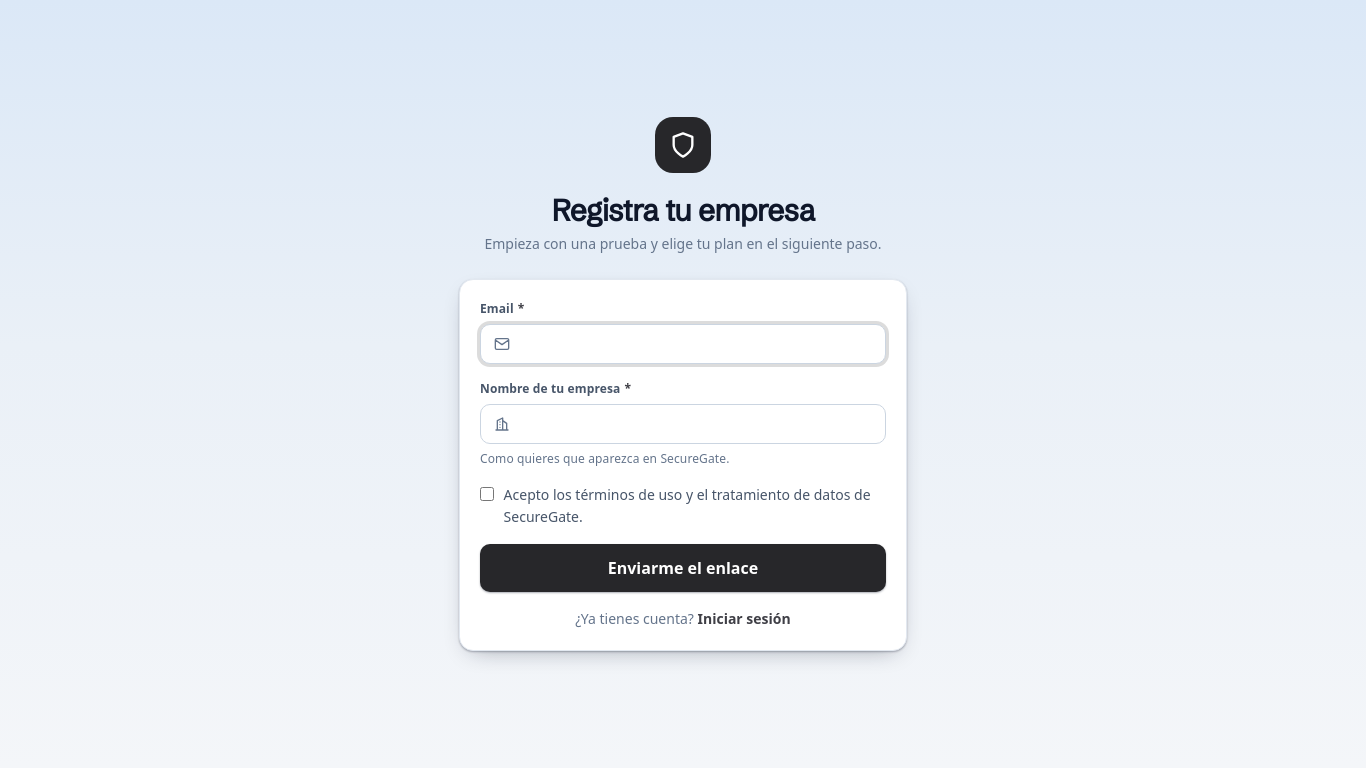
Test: RegistroPage (pública) › sin aceptar los términos no envía nada
Step 1. Type " ana@empresa.gt " into the field labelled "Email*" → (683, 344), box [480, 324, 886, 364]
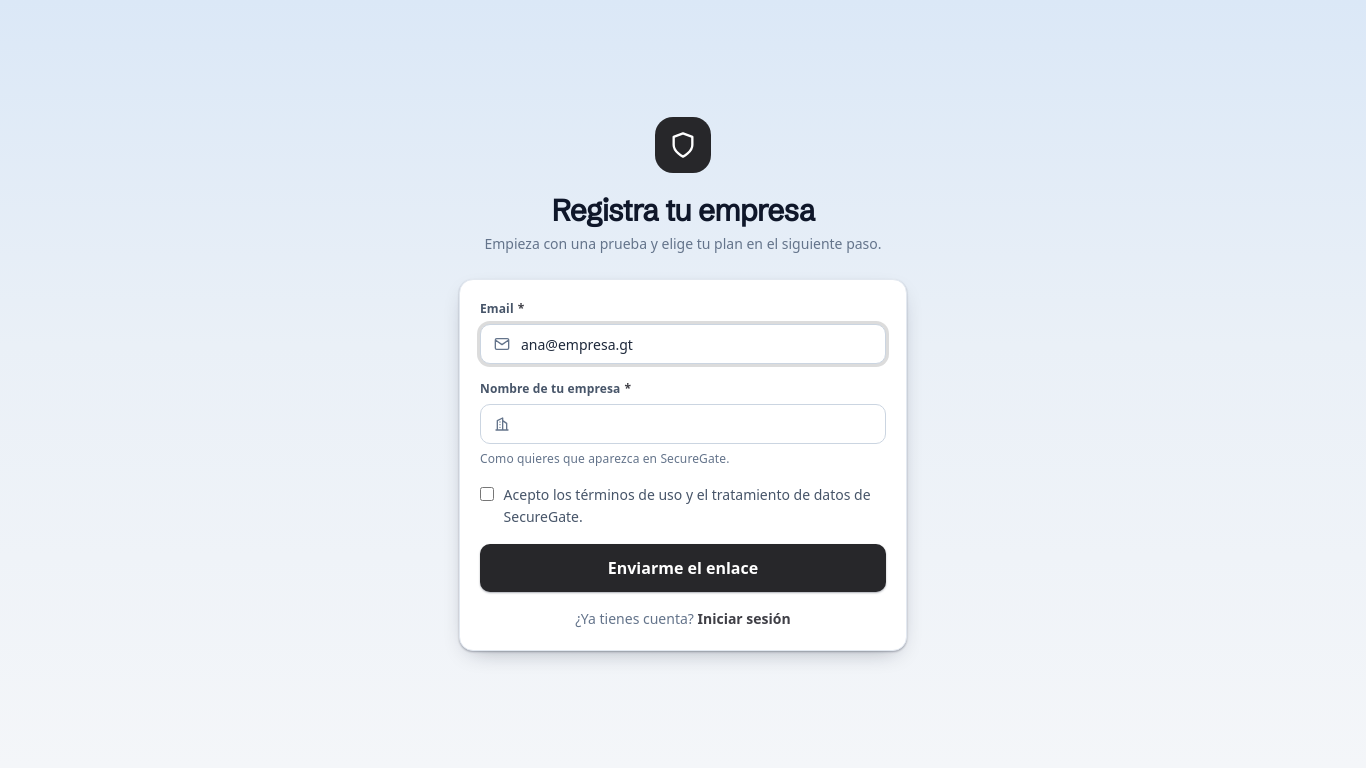
Step 2. Type " Residencial Los Pinos " into the field labelled "Nombre de tu empresa*" → (683, 424), box [480, 404, 886, 444]
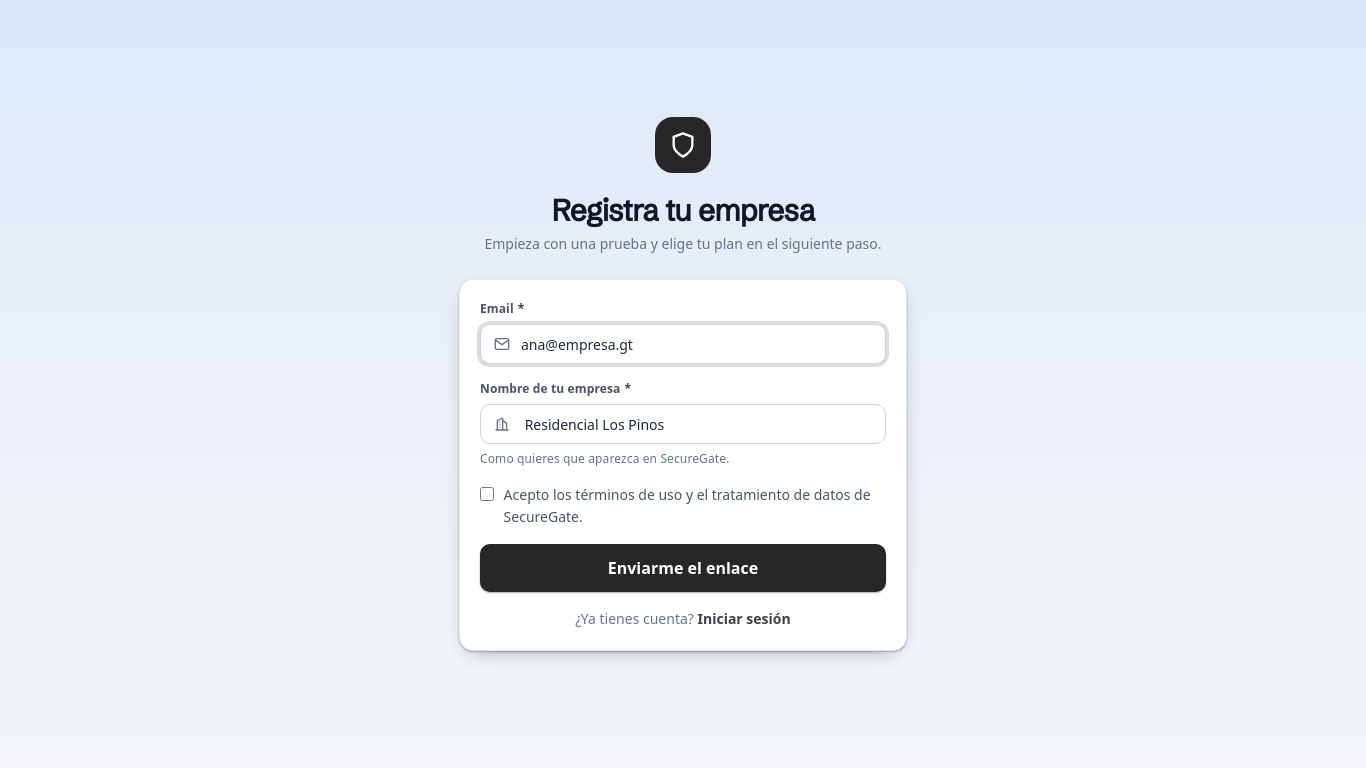
Step 3. Submit the form named "Enviarme el enlace", box [480, 300, 886, 630]
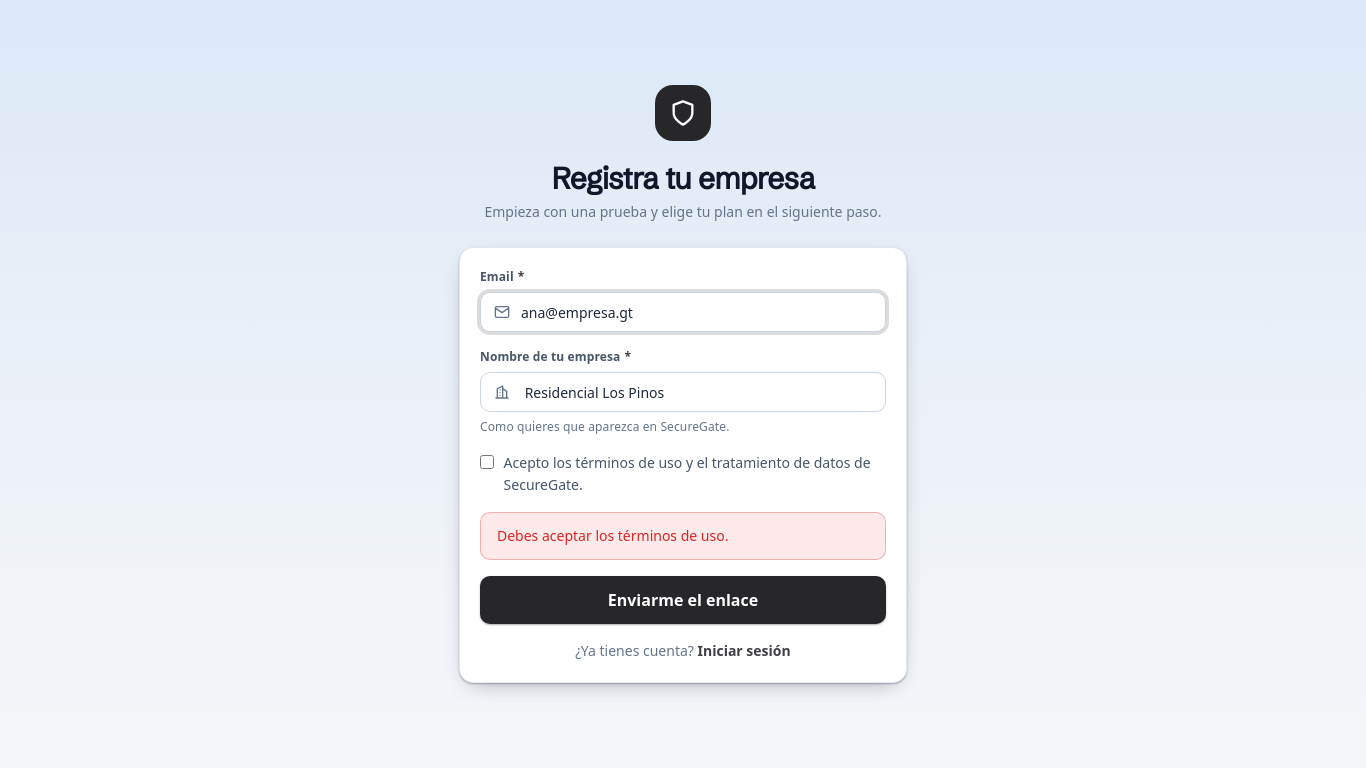
Check: the text "Debes aceptar los términos de uso." is shown, box [480, 512, 886, 560]
